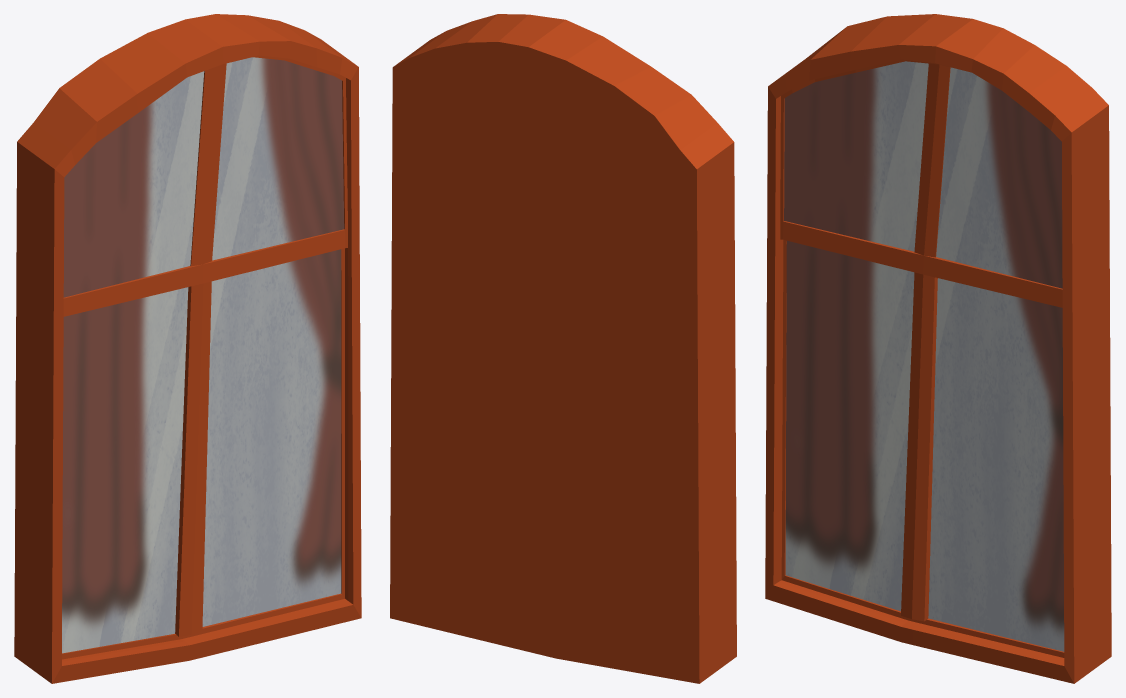
Rendered from Window13.fbx.
The picture shows the model from 3 angles, left to right: view 1: azimuth 30°, elevation 25°; view 2: azimuth 150°, elevation 25°; view 3: azimuth 330°, elevation 25°; orthographic projection.
Parts seen in each view (by area): view 1: Cube.089; view 2: Cube.089; view 3: Cube.089.
Part boxes in pixels (bbox=[...]): Cube.089: bbox=[14, 14, 361, 683]; Cube.089: bbox=[390, 14, 736, 683]; Cube.089: bbox=[765, 14, 1111, 683].
Bounding box in the file's own units: 117 × 218 × 25.42.
